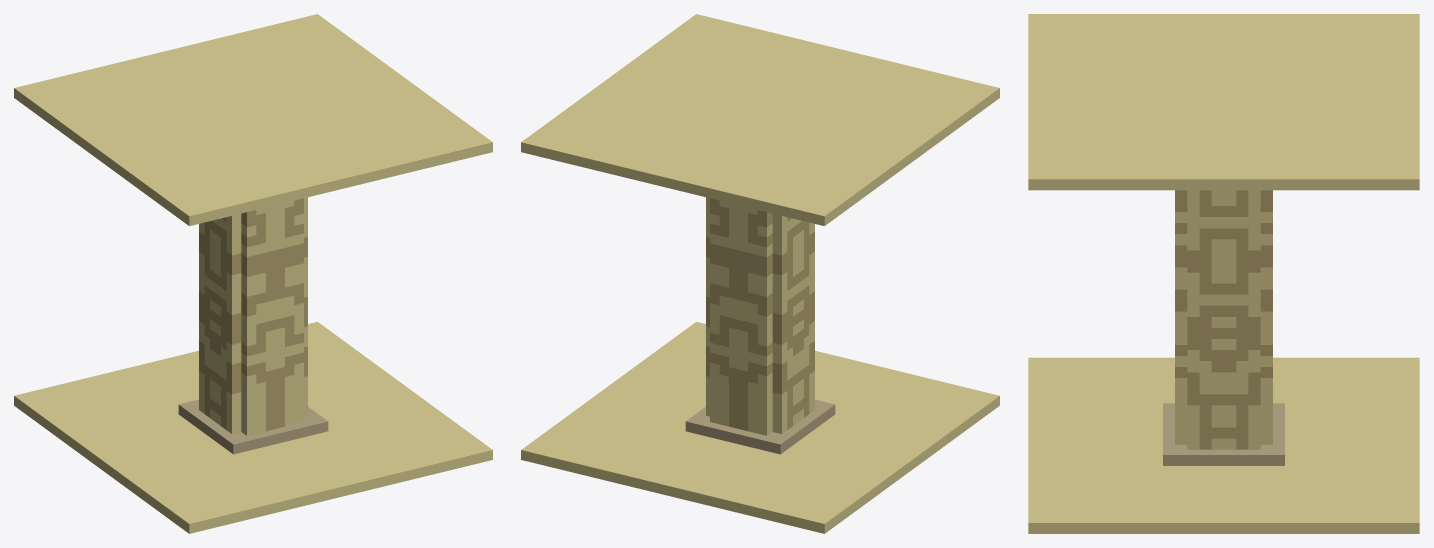
Rendered from pillar2.obj.
3 views of the same model, side by side, from view 1: azimuth 30°, elevation 25°; view 2: azimuth 150°, elevation 25°; view 3: azimuth 270°, elevation 25° (orthographic). The views are drawn at different scales.
Size of the model in its own units: 32 by 32 by 32.
Materials: 1 (1 with a texture image).
